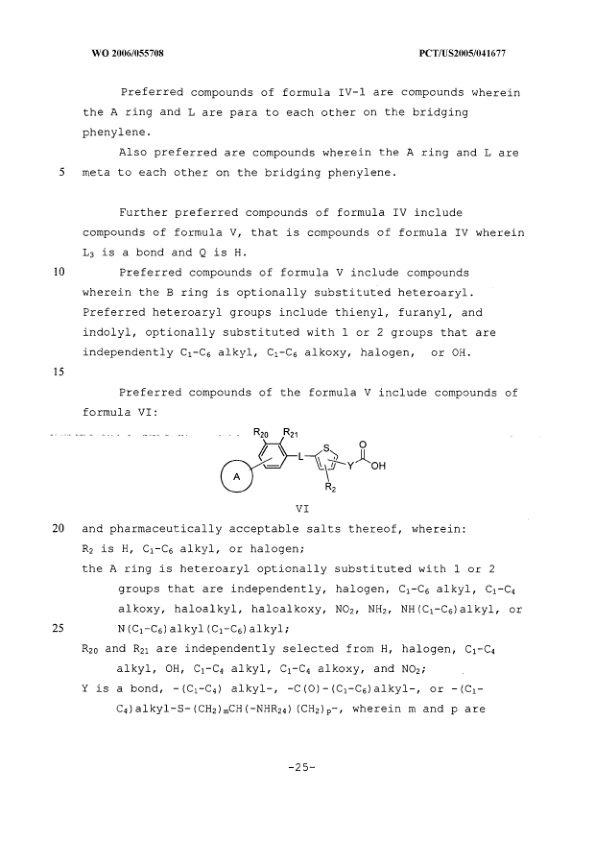compound-structure: (204, 413, 394, 514)
